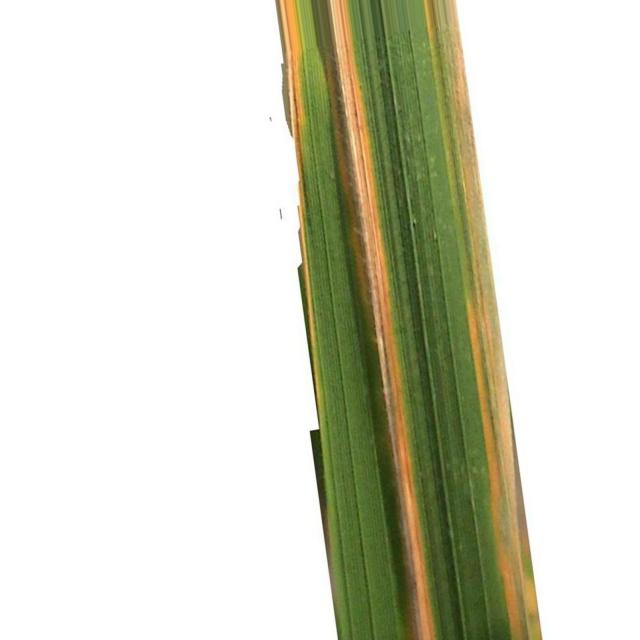Bacterial_Leaf_Blight: (424, 0, 540, 640), (326, 0, 435, 640), (295, 139, 320, 424), (278, 0, 301, 149)
